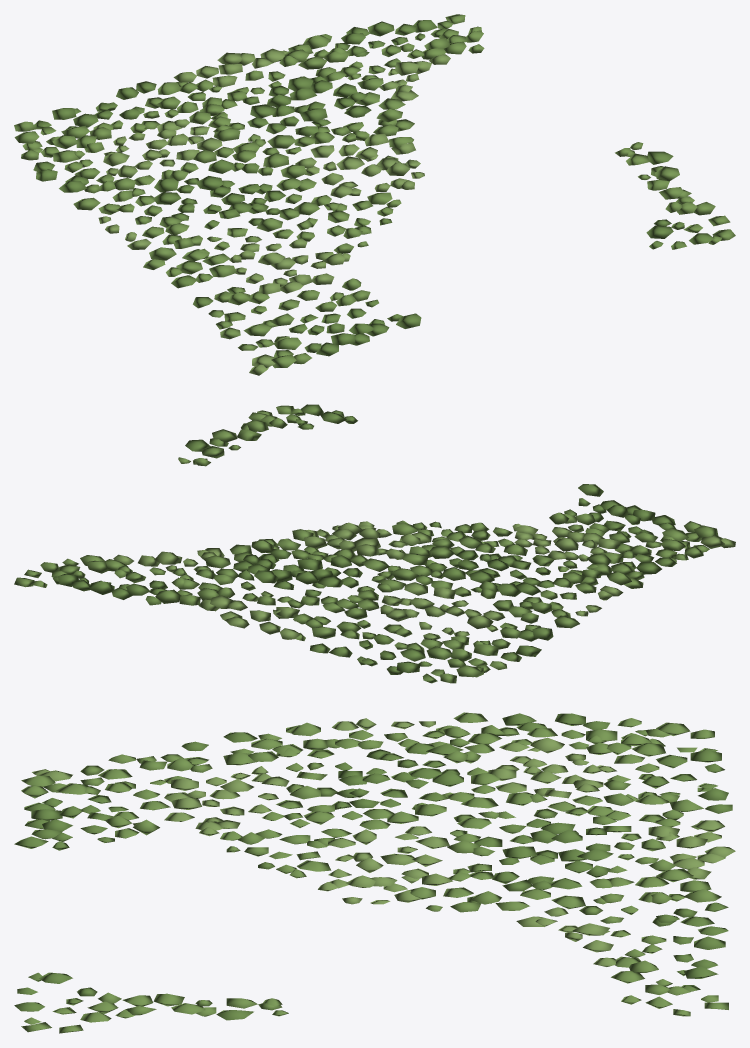
File: canopy-1-2-0.glb
The picture shows the model from 3 angles, top to bottom: view 1: azimuth 30°, elevation 25°; view 2: azimuth 150°, elevation 25°; view 3: azimuth 270°, elevation 25°; orthographic projection. The views are drawn at different scales.
Bounding box in the file's own units: 522 × 70 × 518.
Materials: 1 (1 with a texture image).
